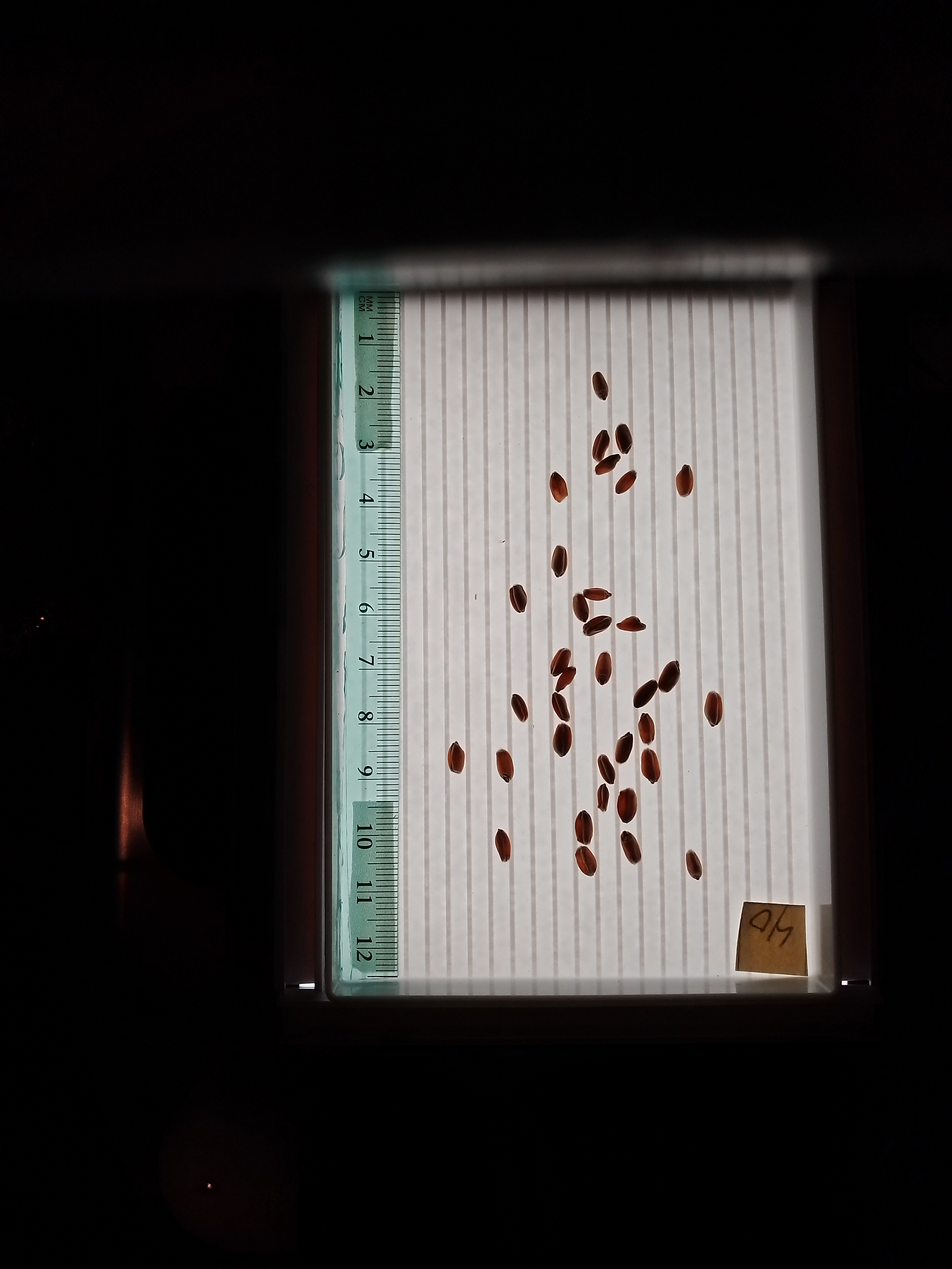seed mask: (617, 789, 638, 823), (658, 661, 680, 693), (633, 680, 658, 708), (641, 749, 660, 784), (704, 692, 723, 726), (574, 812, 593, 845), (621, 833, 641, 864), (576, 847, 597, 876), (553, 725, 572, 756), (496, 750, 513, 782), (550, 473, 568, 503), (551, 648, 571, 675), (592, 431, 609, 462), (448, 743, 465, 773), (596, 454, 620, 475), (509, 585, 527, 613), (598, 755, 616, 783), (585, 615, 610, 635), (495, 831, 511, 862), (615, 734, 632, 763), (616, 424, 632, 454), (677, 466, 693, 496), (596, 654, 612, 684), (552, 694, 570, 720), (552, 546, 567, 576), (639, 714, 654, 744), (686, 851, 702, 879), (572, 595, 589, 621), (616, 472, 636, 494), (557, 667, 576, 690), (592, 372, 608, 399), (618, 616, 645, 632), (512, 694, 528, 721), (584, 587, 609, 600)
